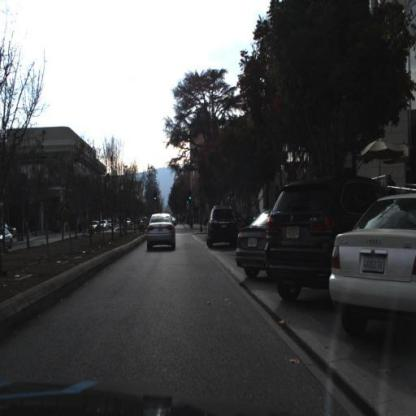car: (263, 171, 388, 302), (330, 195, 416, 341), (266, 173, 341, 313), (234, 203, 273, 284), (232, 212, 268, 282), (145, 207, 179, 256), (204, 204, 238, 251), (206, 207, 234, 249), (1, 227, 14, 254)
